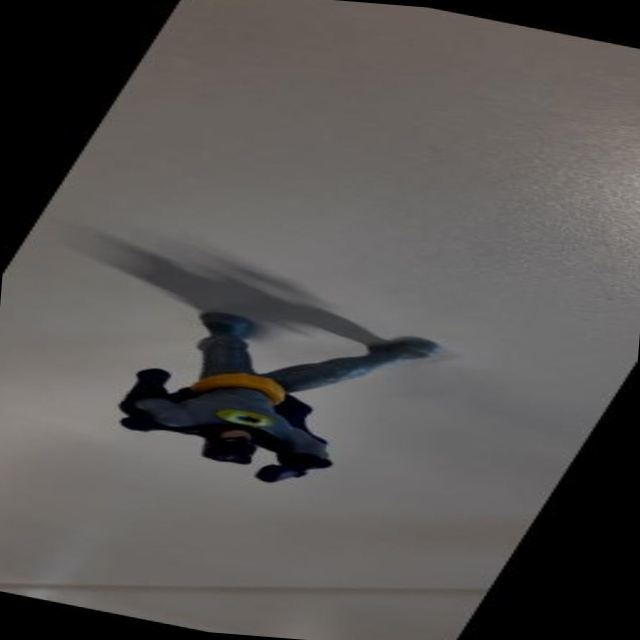Batman: (65, 269, 471, 505)
